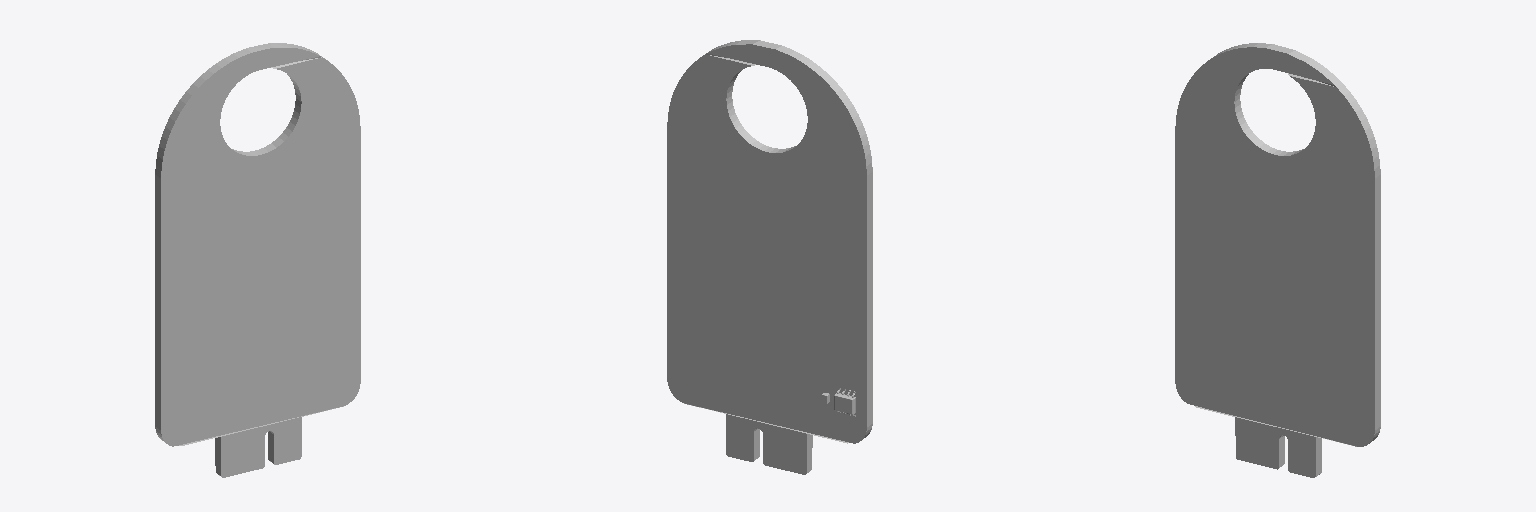
File: OBJ_PCB_ID card.obj
3 renders of one model, left to right at view 1: azimuth 30°, elevation 25°; view 2: azimuth 150°, elevation 25°; view 3: azimuth 330°, elevation 25°, orthographic.
Bounding box in the file's own units: 196 × 392 × 16.77.